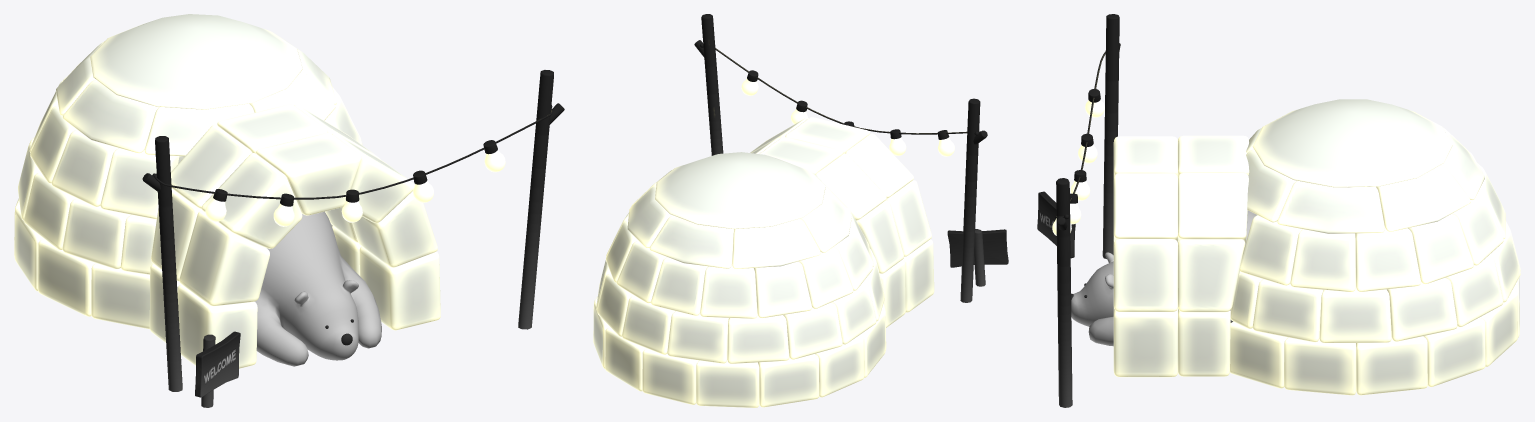
Rendered from bear.glb.
3 views of the same model, side by side, from view 1: azimuth 30°, elevation 25°; view 2: azimuth 150°, elevation 25°; view 3: azimuth 270°, elevation 25° (orthographic). The views are drawn at different scales.
Parts seen in each view (by area): view 1: igloo, bear; view 2: igloo; view 3: igloo, bear.
Boxes of the visible parts, x1,y1,x2,y2 form: igloo: [14, 14, 564, 407]; bear: [254, 211, 381, 366]; igloo: [593, 14, 1008, 407]; igloo: [1037, 14, 1520, 407]; bear: [1071, 210, 1256, 346].
Bounding box in the file's own units: 0.6776 × 0.4197 × 0.7768.
2 materials, 2 textured.
